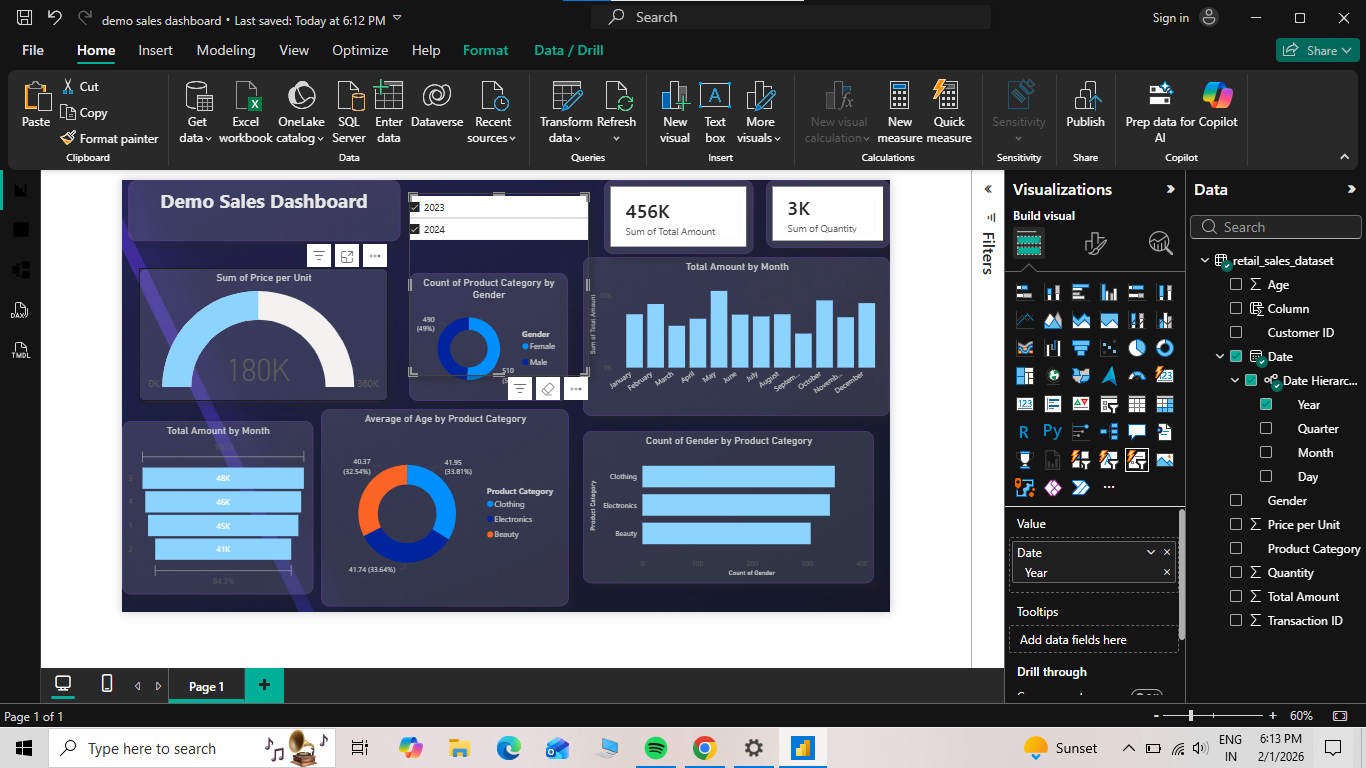

What the dashboard file says about the page in this screenshot:
{"tool":"powerbi","page":{"name":"Page 1","canvas":[1280,720],"ordinal":0},"visuals":[{"type":"textbox","box":[10.1,0,453.5,102.5],"z":0},{"type":"clusteredColumnChart","title":"Total Amount by Month","fields":{"Y":["Sum(retail_sales_dataset.Total Amount)"],"Category":["retail_sales_dataset.Date.Variation.Date Hierarchy.Month"]},"box":[767.7,127.7,512.3,265.4],"z":1000},{"type":"barChart","fields":{"Category":["retail_sales_dataset.Product Category"],"Y":["CountNonNull(retail_sales_dataset.Gender)"]},"box":[767.7,418.3,485.5,253.6],"z":2000},{"type":"donutChart","fields":{"Category":["retail_sales_dataset.Product Category"],"Y":["Avg(retail_sales_dataset.Age)"]},"box":[330.9,381.3,413.2,329.2],"z":3000},{"type":"donutChart","fields":{"Y":["CountNonNull(retail_sales_dataset.Product Category)"],"Category":["retail_sales_dataset.Gender"]},"box":[478.7,154.5,265.4,213.3],"z":4000},{"type":"cardVisual","fields":{"Data":["Sum(retail_sales_dataset.Total Amount)"]},"box":[802.9,0,248.6,122.6],"z":5000},{"type":"cardVisual","fields":{"Data":["Sum(retail_sales_dataset.Quantity)"]},"box":[1073.4,0,206.6,112.5],"z":6000},{"type":"funnel","title":"Total Amount by Month","fields":{"Category":["retail_sales_dataset.Quantity"],"Y":["Sum(retail_sales_dataset.Price per Unit)"]},"box":[0,401.5,319.2,288.9],"z":7000},{"type":"gauge","fields":{"Y":["Sum(retail_sales_dataset.Price per Unit)"]},"box":[28.6,146.1,414.9,221.7],"z":8000},{"type":"slicer","fields":{"Values":["retail_sales_dataset.Date.Variation.Date Hierarchy.Year"]},"box":[478.6,11.6,300.7,111.3],"z":8001}]}

Visuals, with their boxes on the page's 1280x720 design canvas (x1, y1, x2, y2). These are canvas units, not pixel positions in the 1366x768 screenshot, which may show the page scaled, cropped or inside an application window:
textbox: <region>10, 0, 464, 102</region>
"Total Amount by Month" clusteredColumnChart: <region>768, 128, 1280, 393</region>
barChart - retail_sales_dataset.Product Category x CountNonNull(retail_sales_dataset.Gender): <region>768, 418, 1253, 672</region>
donutChart - retail_sales_dataset.Product Category x Avg(retail_sales_dataset.Age): <region>331, 381, 744, 710</region>
donutChart - CountNonNull(retail_sales_dataset.Product Category) x retail_sales_dataset.Gender: <region>479, 154, 744, 368</region>
cardVisual - Sum(retail_sales_dataset.Total Amount): <region>803, 0, 1052, 123</region>
cardVisual - Sum(retail_sales_dataset.Quantity): <region>1073, 0, 1280, 112</region>
"Total Amount by Month" funnel: <region>0, 402, 319, 690</region>
gauge - Sum(retail_sales_dataset.Price per Unit): <region>29, 146, 444, 368</region>
slicer - retail_sales_dataset.Date.Variation.Date Hierarchy.Year: <region>479, 12, 779, 123</region>
